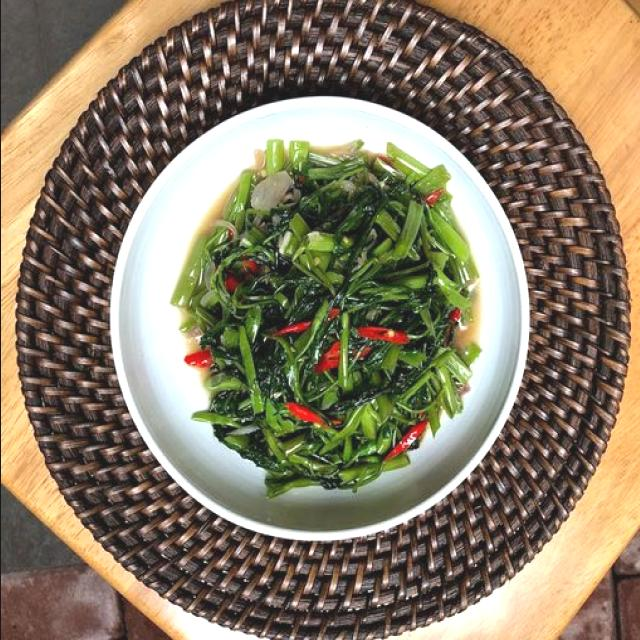tumis kangkung: (155, 122, 485, 502)
